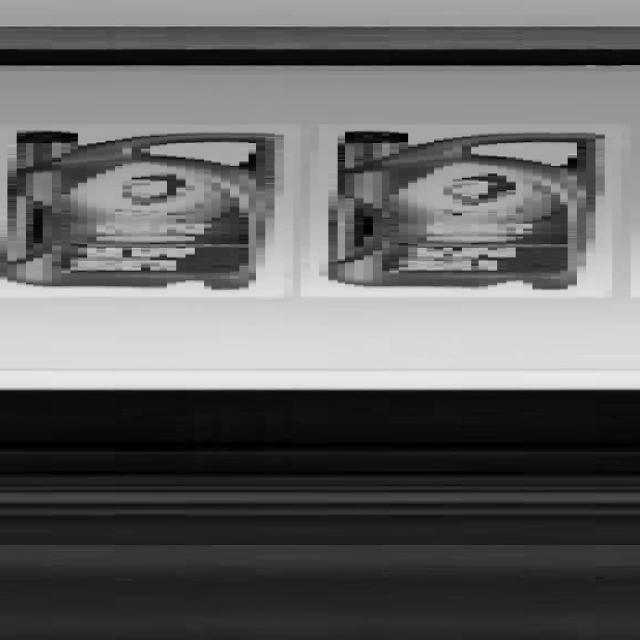motor_oil: (315, 125, 611, 293), (0, 127, 288, 295)
